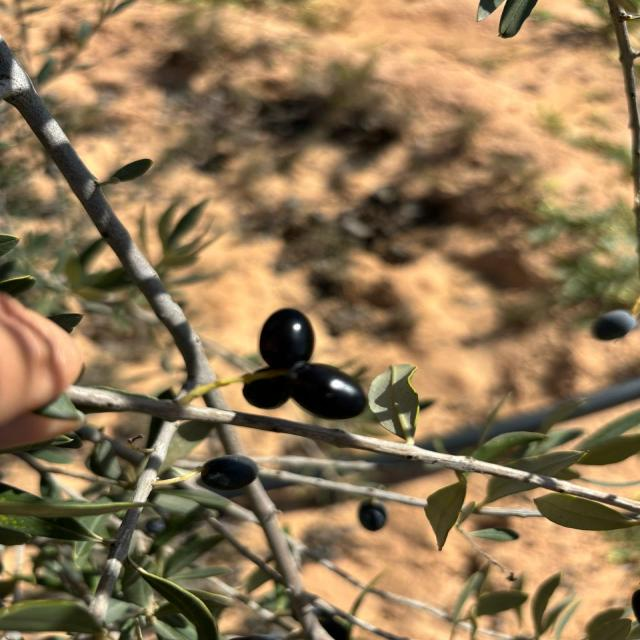Healthy: (291, 363, 367, 420), (259, 308, 314, 368), (201, 456, 258, 490)
